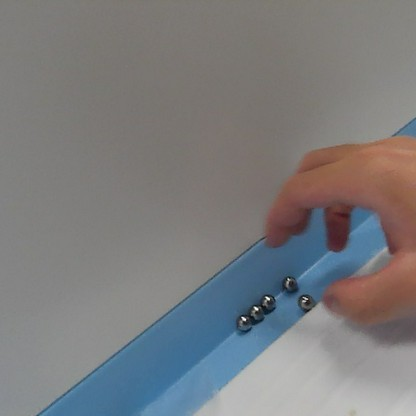ironball: (278, 269, 302, 294), (234, 311, 258, 334), (294, 287, 316, 312), (246, 301, 267, 322), (258, 291, 279, 310)
